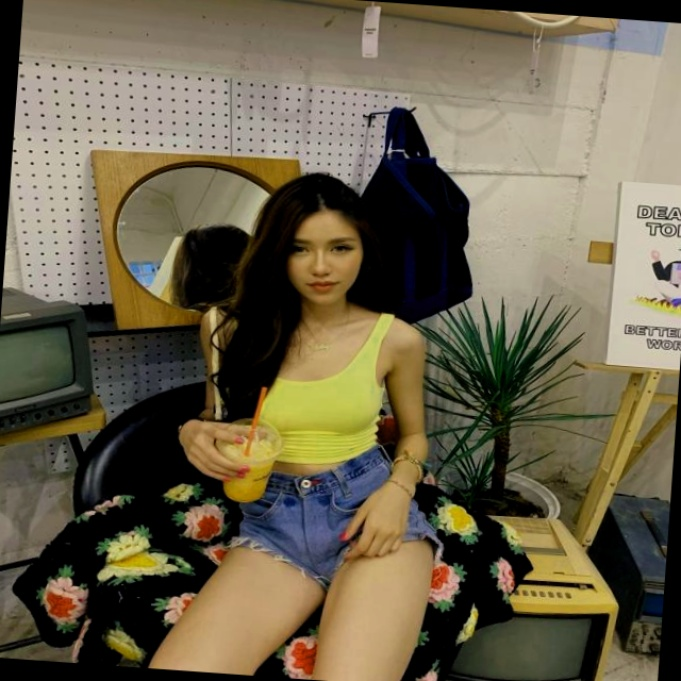Crop_Top: (218, 374, 386, 482)
Shorts: (147, 434, 453, 681)
Sleeveless: (375, 313, 430, 384), (195, 301, 244, 366)
low_neckline: (225, 300, 391, 464)
